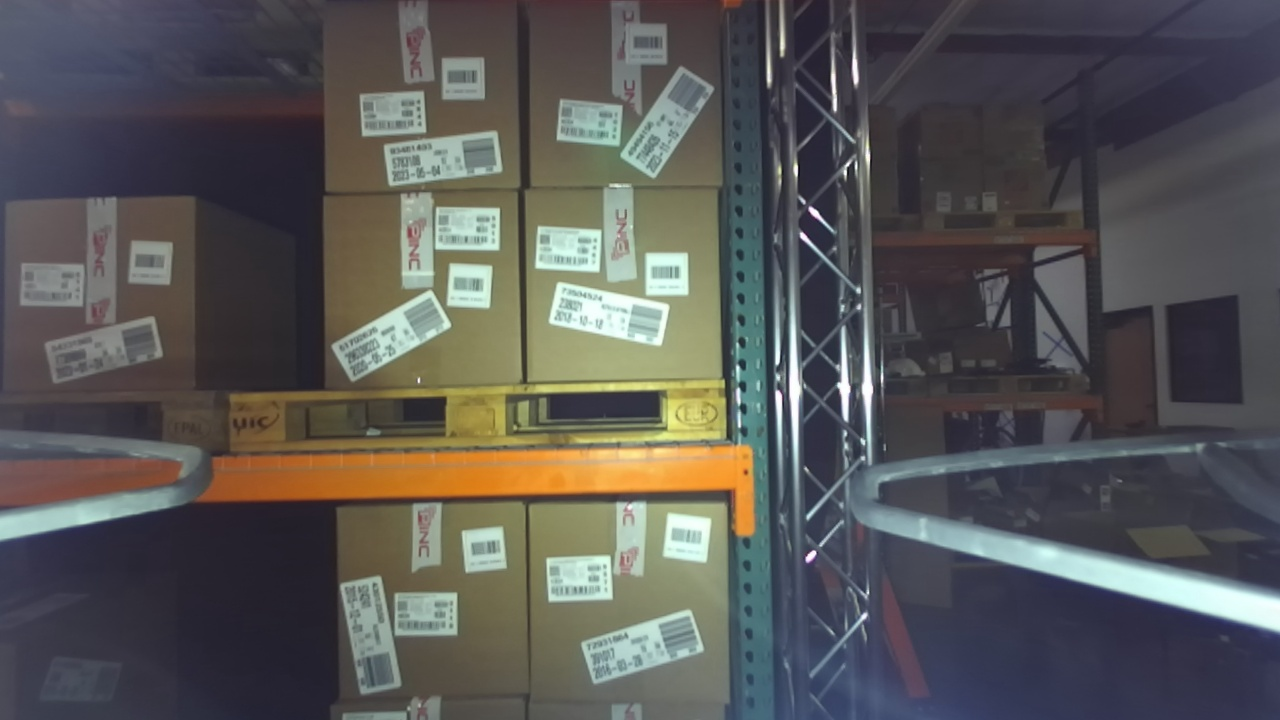box: (295, 168, 553, 411), (506, 473, 752, 720), (501, 167, 738, 415), (318, 492, 559, 720), (295, 1, 539, 226), (2, 175, 227, 408), (491, 4, 745, 203)
